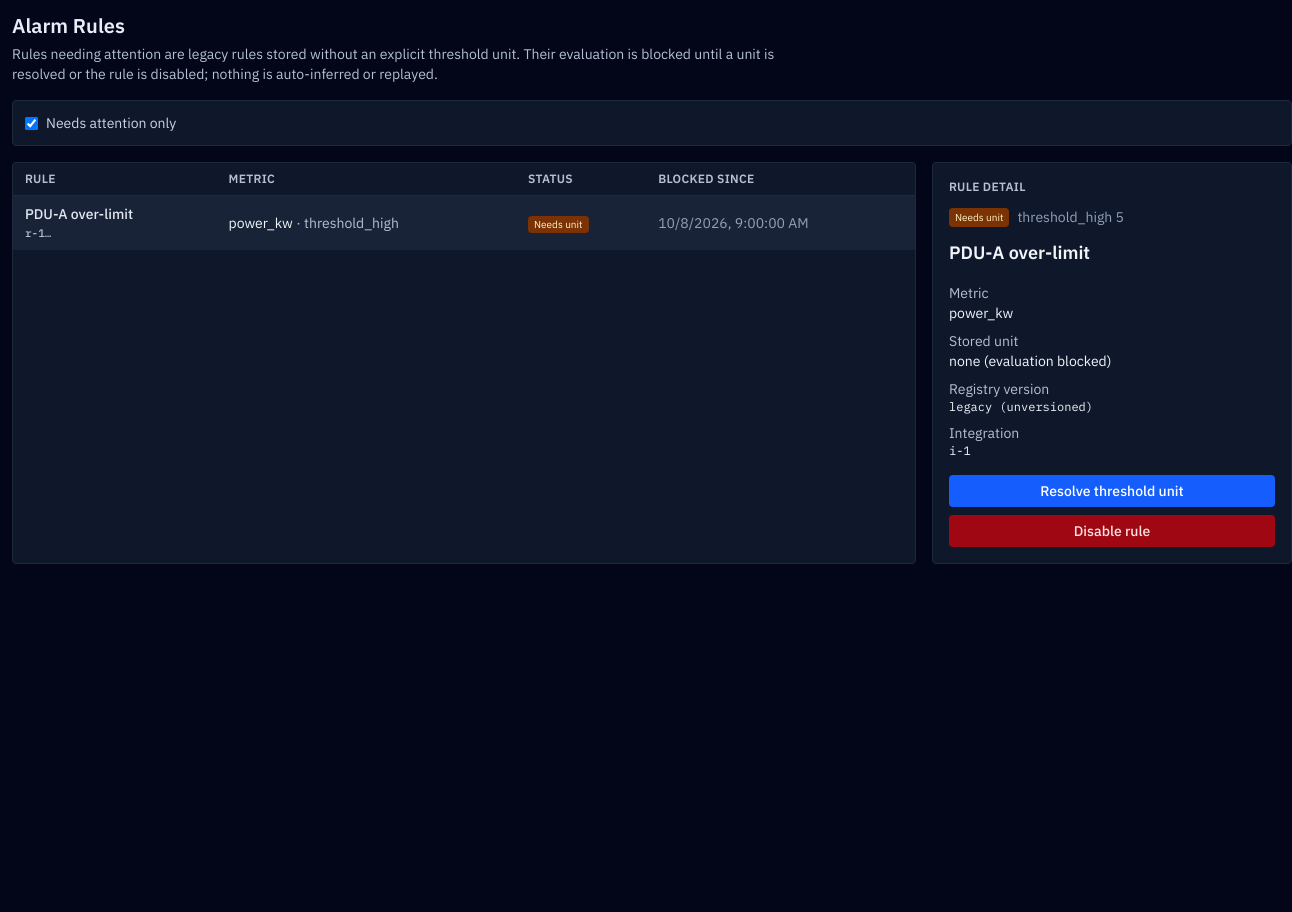
Test: AlarmRulesPage › surfaces a backend conflict instead of silently retrying
Click the button "Disable rule" at (1112, 531), box [949,515,1275,547]
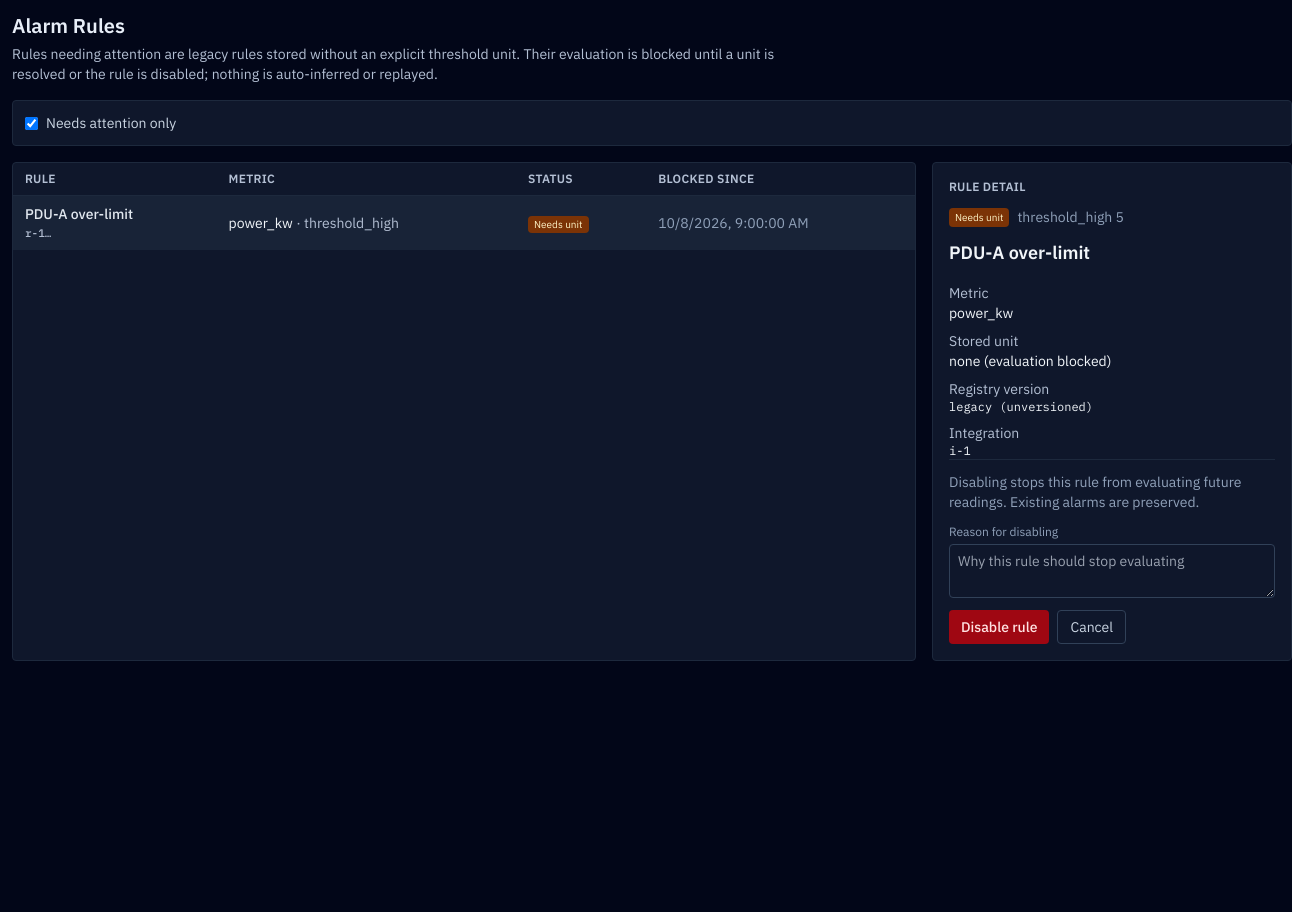
Type "test" into the text box labelled "Reason for disabling" at (1112, 571), box [949,544,1275,598]
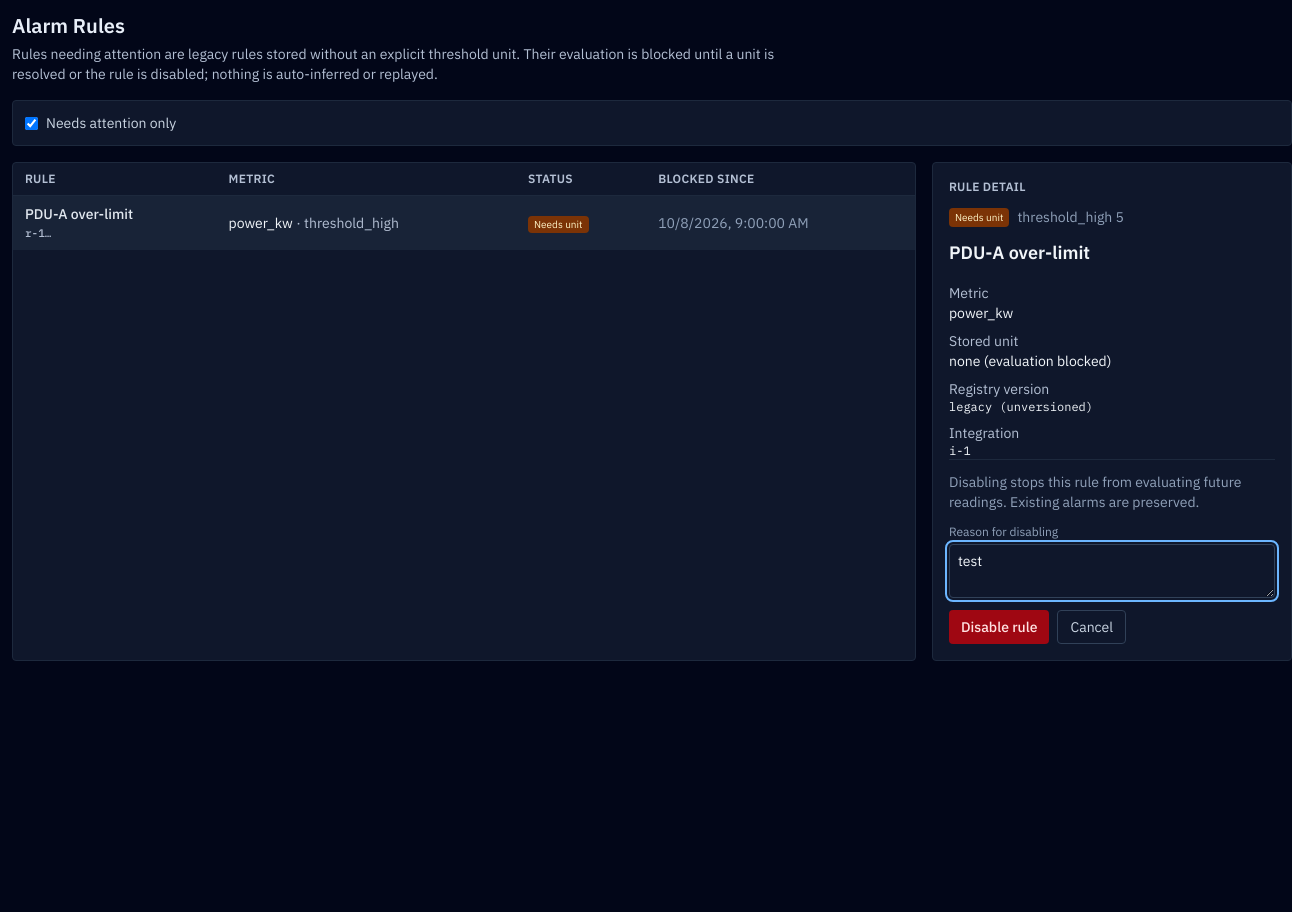
Click the button "Disable rule" at (999, 627), box [949,610,1050,644]
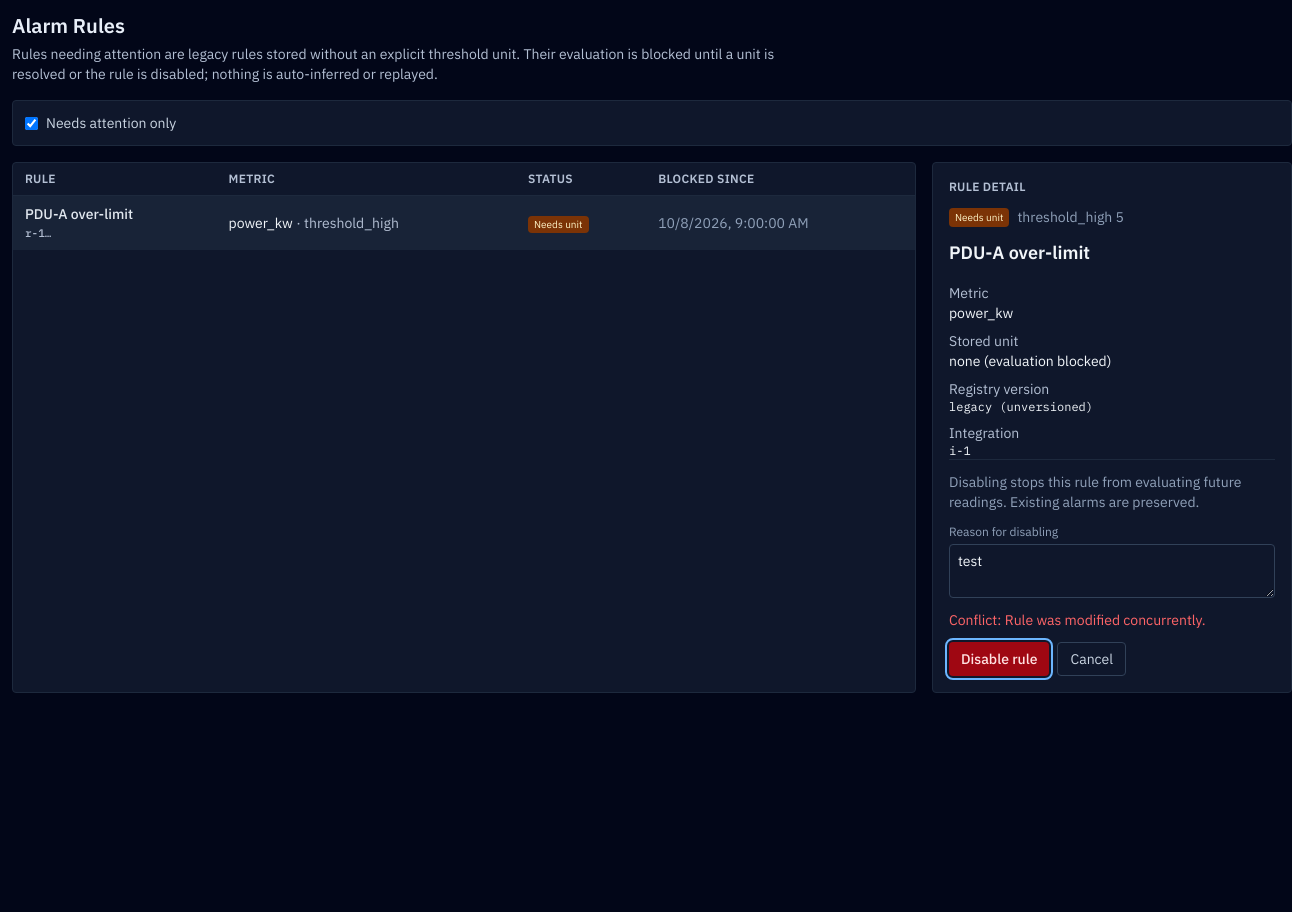
Expected: the message reads "Conflict: Rule was modified concurrently.", [949,611,1206,629]
